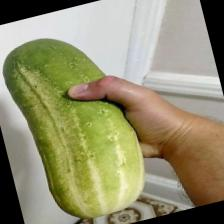cucumber: (0, 19, 155, 224)
